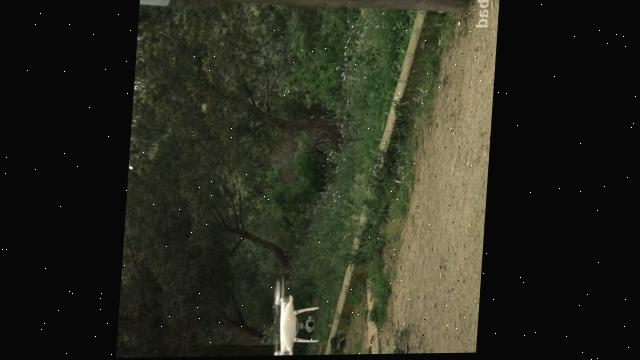drone: (274, 274, 326, 357)
